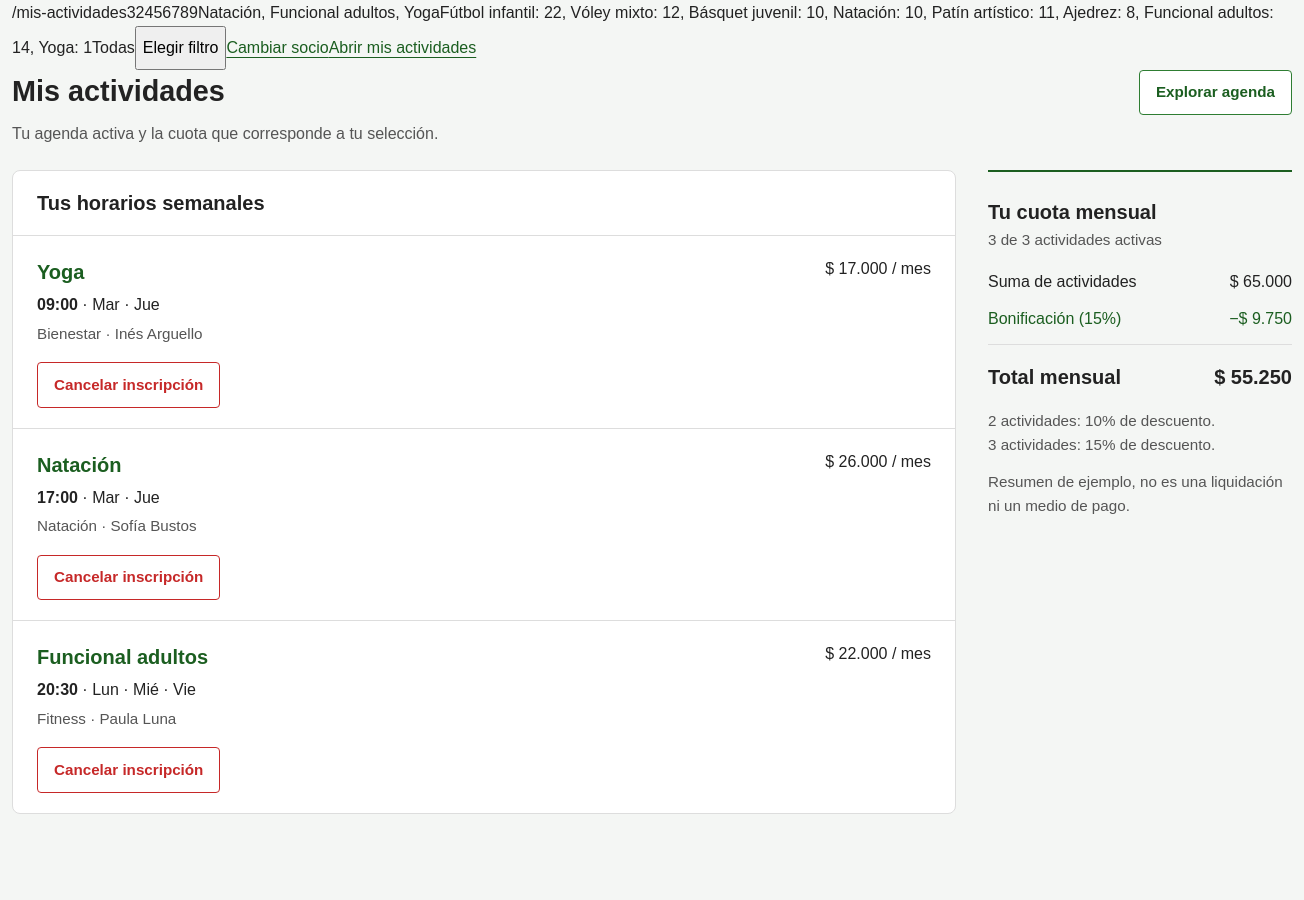
Test: Mis actividades › requires inline confirmation, keeps all data until confirmed, and lets the member keep the enrollment
This screenshot has width=1304, height=900.
Step 1. Click the button "Cancelar inscripción" below "Sofía Bustos" → {"x": 129, "y": 577}, box [37, 555, 220, 600]
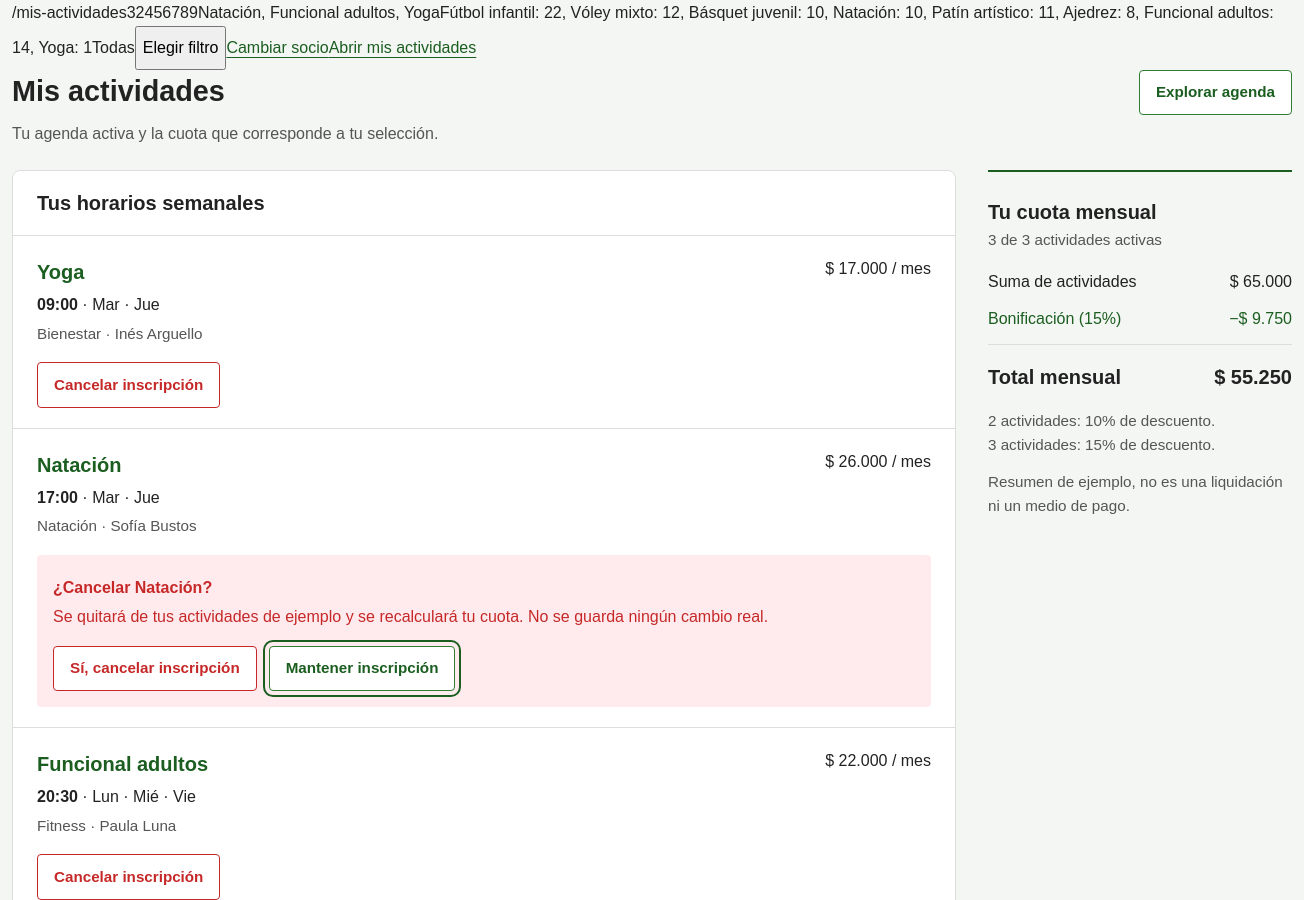
Expected: the text "¿Cancelar Natación?" is shown, [53, 579, 212, 596]
Step 2. Click the button "Mantener inscripción" → {"x": 362, "y": 669}, box [269, 646, 456, 691]
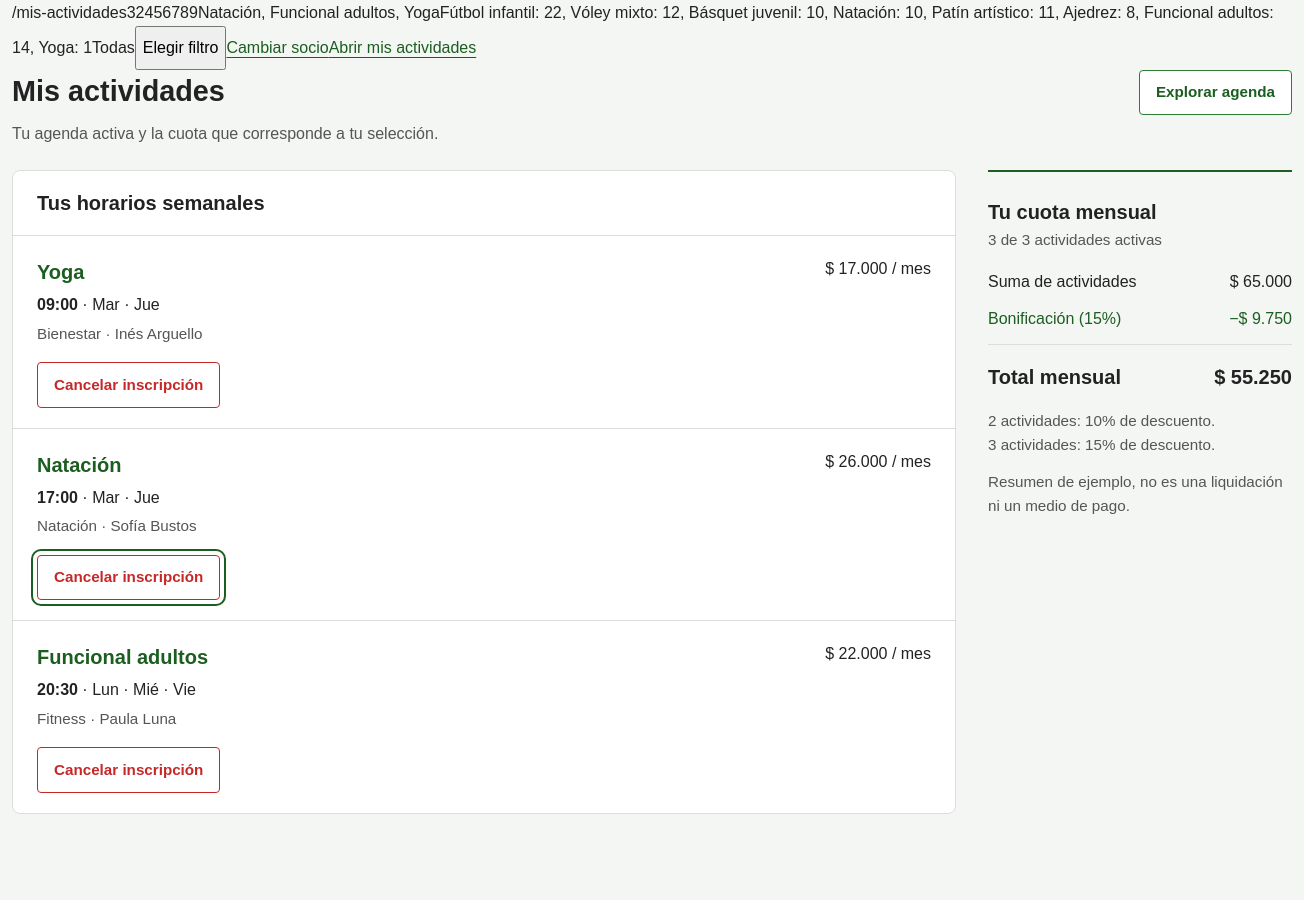
Expected: the text "¿Cancelar Natación?" is gone
